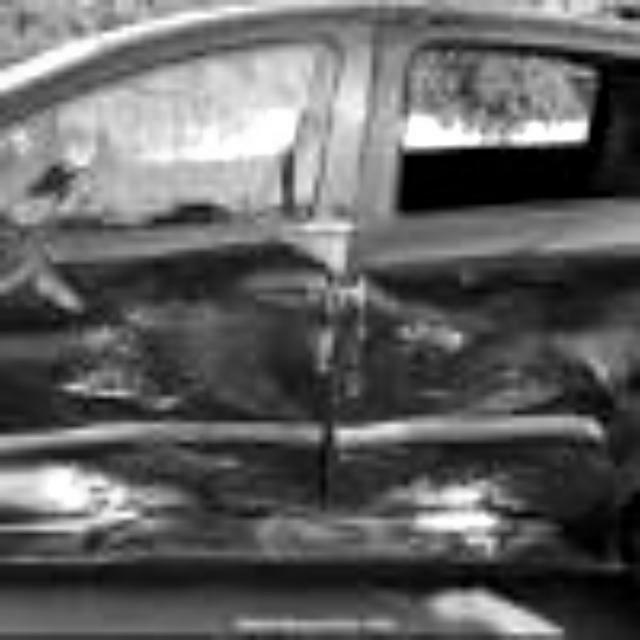doorouter-dent: (1, 237, 340, 569), (353, 231, 634, 570)
